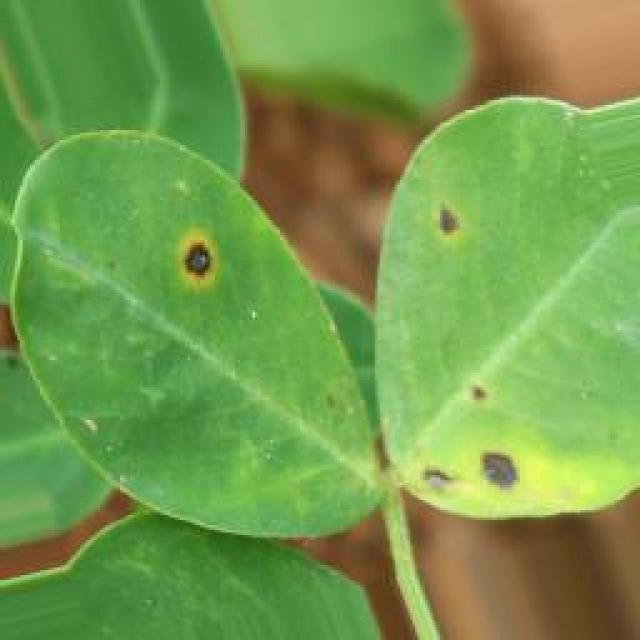Sigatoka: (454, 431, 570, 538), (452, 355, 538, 457), (157, 217, 234, 320), (408, 454, 491, 538), (412, 188, 489, 267)
